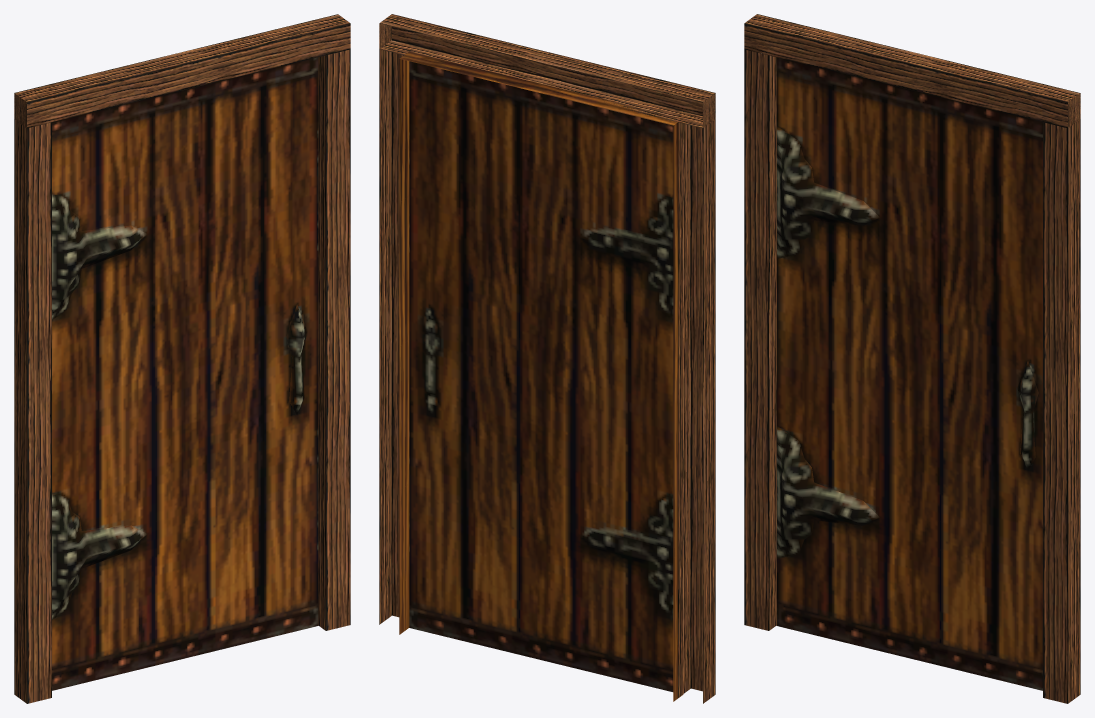
Rendered from INST_LT_INTERIORDOOR.fbx.
The picture shows the model from 3 angles, left to right: view 1: azimuth 30°, elevation 25°; view 2: azimuth 150°, elevation 25°; view 3: azimuth 330°, elevation 25°; orthographic projection.
Visible parts, largest first — view 1: INST_LT_INTERIORDOOR; view 2: INST_LT_INTERIORDOOR; view 3: INST_LT_INTERIORDOOR.
Boxes of the visible parts, x1=… form: INST_LT_INTERIORDOOR: x1=14, y1=14, x2=350, y2=703; INST_LT_INTERIORDOOR: x1=379, y1=14, x2=715, y2=703; INST_LT_INTERIORDOOR: x1=744, y1=14, x2=1080, y2=703.
Size of the model in its own units: 12393 by 22031 by 1162.
Materials: 2 (2 with a texture image).
